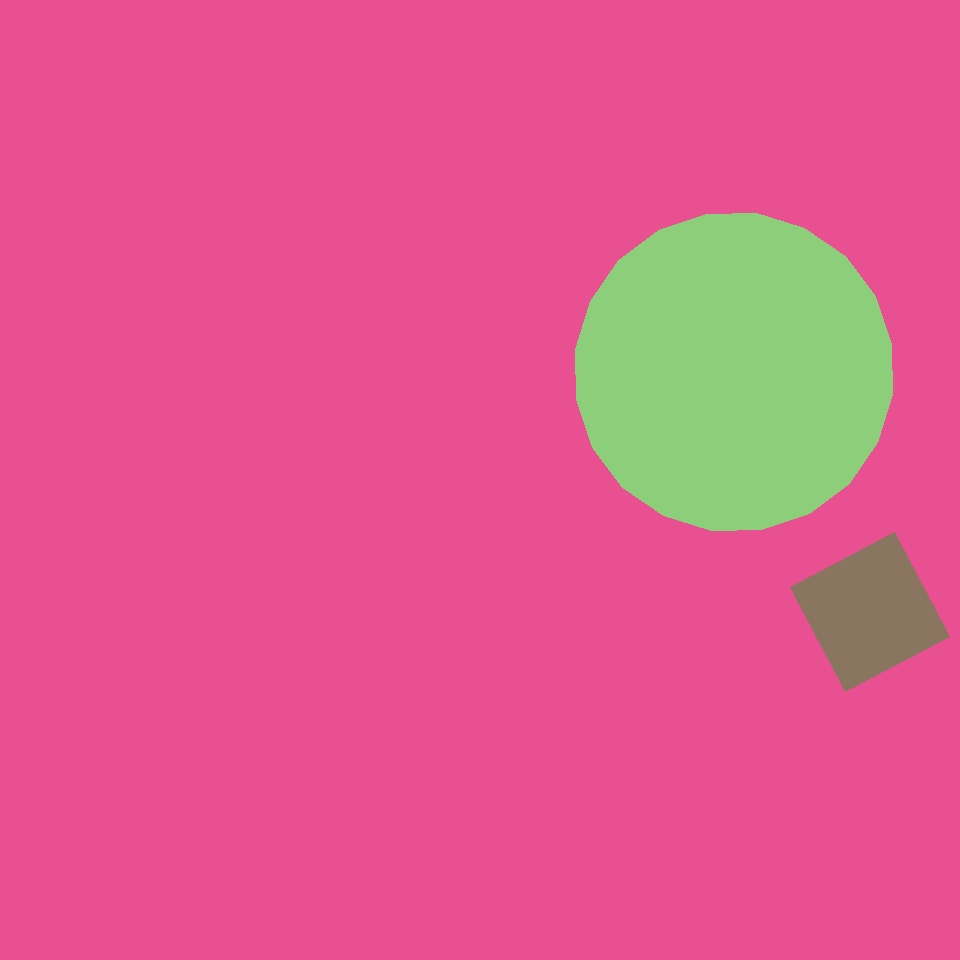circle: (146, 96, 276, 242)
square: (423, 352, 725, 654), (671, 87, 903, 320), (790, 532, 950, 691)
triangle: (575, 214, 892, 530), (174, 414, 418, 658), (247, 612, 468, 832), (72, 577, 185, 690)
